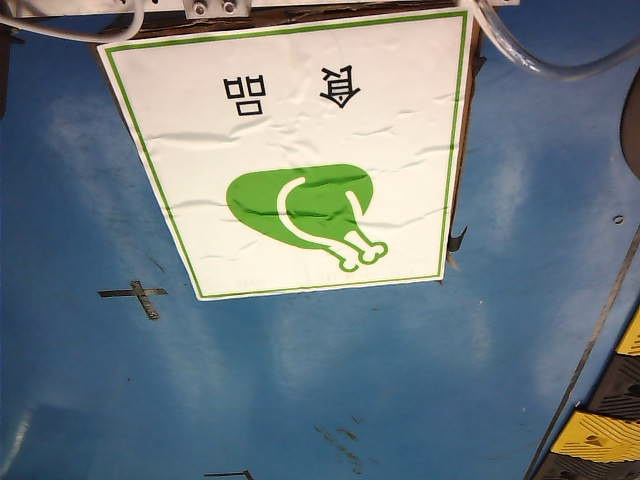Cube_food: (194, 43, 441, 287)
